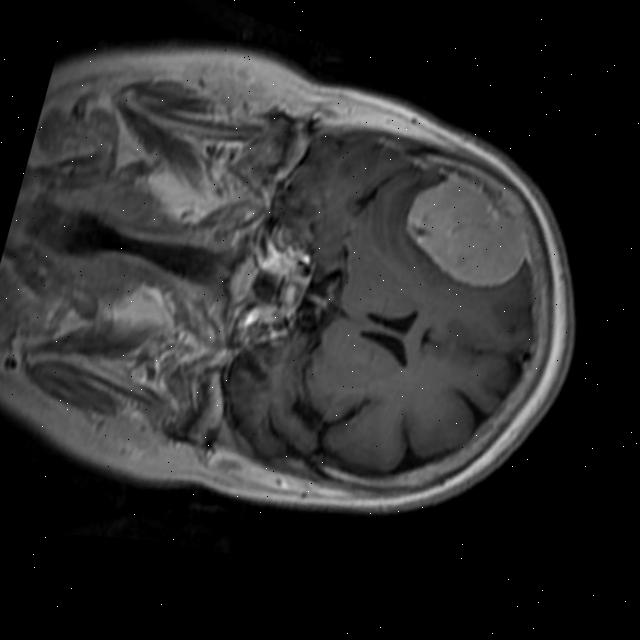Meningioma: (390, 167, 542, 299)
